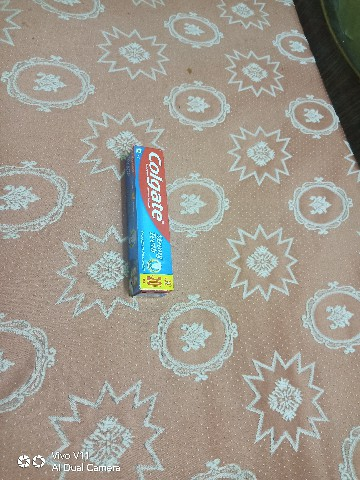colgatetoothpaste small: (104, 137, 197, 305)
